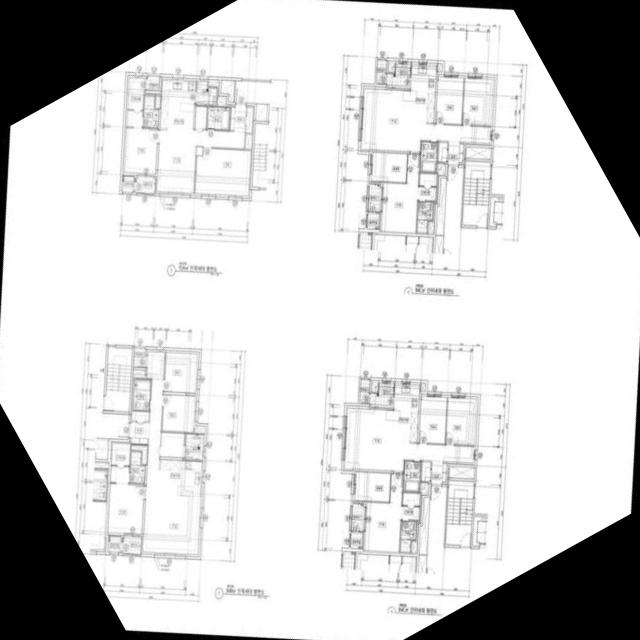background: (0, 0, 640, 640)
space_balconi: (369, 383, 393, 409), (386, 64, 410, 89), (195, 81, 216, 106), (184, 434, 203, 460), (351, 503, 364, 531), (368, 184, 381, 212), (121, 536, 141, 554), (134, 176, 155, 193)
space_bedroom: (364, 474, 402, 553), (381, 154, 419, 233), (194, 148, 250, 196), (107, 484, 144, 534), (124, 128, 157, 174), (462, 78, 493, 126), (445, 398, 476, 445), (163, 352, 197, 393), (418, 396, 446, 444), (435, 77, 463, 124), (161, 395, 195, 433)
space_dressroom: (126, 78, 144, 127), (110, 443, 130, 483), (418, 173, 437, 201), (401, 493, 420, 520)
space_front: (229, 104, 252, 133), (128, 422, 149, 445), (430, 461, 447, 484), (447, 141, 463, 165)
space_kitchen: (159, 79, 195, 130), (157, 459, 202, 497), (408, 64, 436, 123), (391, 384, 419, 442)
space_living_room: (142, 352, 200, 554), (344, 408, 473, 471), (361, 89, 490, 152), (156, 129, 244, 193)
space_multipurpose_space: (354, 472, 390, 502), (371, 153, 407, 182)
space_other: (418, 498, 429, 555), (435, 178, 446, 235), (160, 432, 184, 458), (449, 466, 474, 479), (466, 147, 491, 160), (220, 80, 234, 102), (131, 445, 147, 464), (195, 106, 207, 129), (133, 348, 146, 367), (359, 380, 369, 404), (376, 60, 386, 84), (145, 76, 159, 91), (420, 462, 430, 482), (437, 142, 447, 162), (255, 104, 266, 121), (131, 411, 149, 421), (245, 134, 251, 149), (436, 163, 444, 174), (216, 97, 225, 106), (419, 483, 427, 493), (133, 370, 145, 376), (427, 222, 433, 234), (371, 382, 378, 392), (411, 541, 416, 553), (155, 96, 160, 108), (208, 81, 218, 87), (388, 63, 394, 72), (194, 428, 204, 433), (420, 384, 424, 391), (437, 65, 441, 72)
space_outdoor_room: (107, 536, 120, 553), (350, 532, 362, 549), (367, 213, 379, 229), (121, 176, 133, 192)
space_staircase: (104, 347, 132, 412), (445, 481, 473, 546), (462, 161, 490, 226)
space_toilet: (419, 142, 437, 173), (399, 521, 416, 553), (416, 202, 433, 234), (129, 451, 145, 484), (133, 379, 150, 410), (403, 461, 420, 492), (207, 107, 229, 130), (143, 95, 158, 128)
